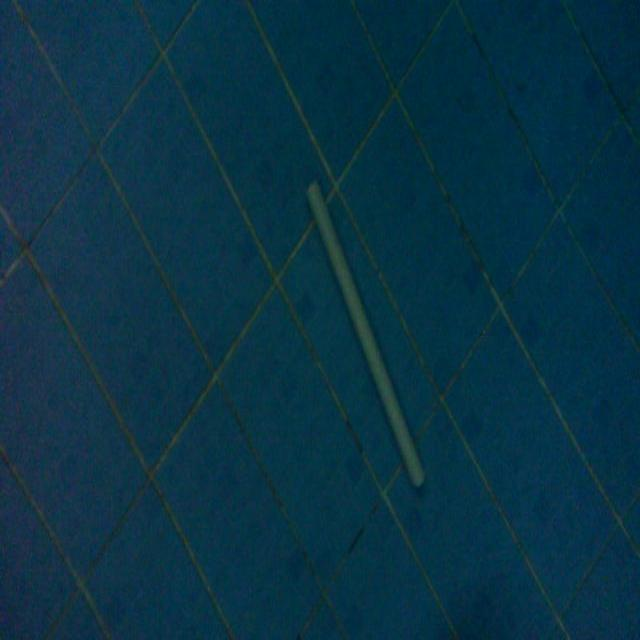Cube: (303, 174, 427, 491)
